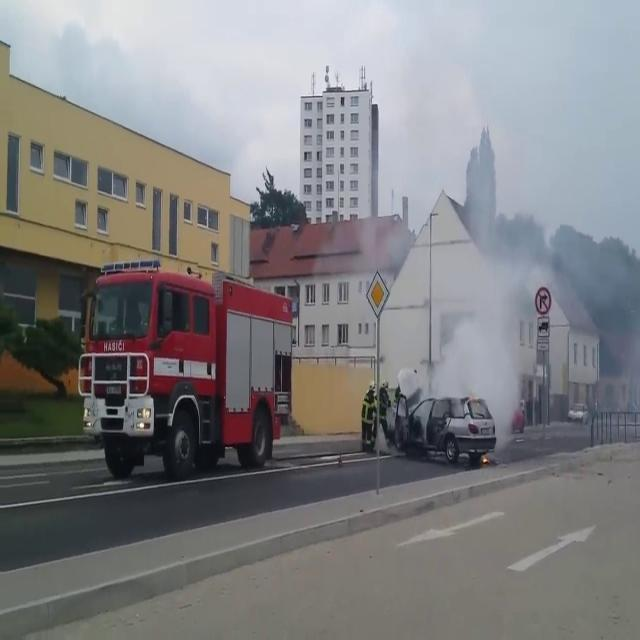Smoke: (428, 112, 547, 444)
